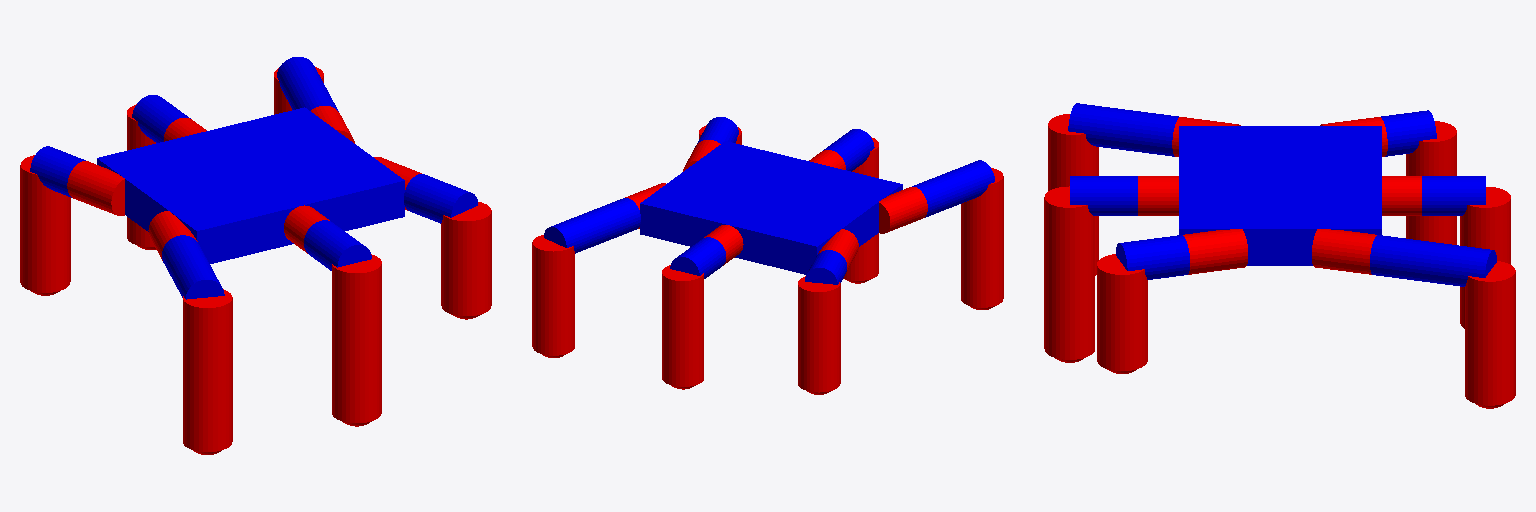
--- Render facts (derived) ---
3 views of the same robot in one strip: view 1: azimuth 30°, elevation 25°; view 2: azimuth 150°, elevation 25°; view 3: azimuth 270°, elevation 25° (orthographic).
Robot: pexod — 19 links, 18 joints (18 revolute); root link base_link; default pose: every joint at zero.
Visible links, largest first — view 1: base_link, leg_4_3, leg_5_3, leg_0_3, leg_3_3, leg_5_2, leg_3_2, leg_0_1, leg_4_2, leg_2_2, leg_0_2, leg_1_2 (+5 smaller); view 2: base_link, leg_5_3, leg_2_3, leg_1_3, leg_0_3, leg_2_2, leg_5_2, leg_5_1, leg_4_3, leg_1_2, leg_4_2, leg_0_2 (+3 smaller); view 3: base_link, leg_4_3, leg_2_3, leg_3_3, leg_2_2, leg_5_2, leg_0_3, leg_1_3, leg_5_3, leg_3_2, leg_4_2, leg_2_1 (+6 smaller).
Link boxes in pixels (left/top/right/bottom): base_link: left=97, top=107, right=404, bottom=263; leg_4_3: left=332, top=254, right=381, bottom=426; leg_5_3: left=183, top=289, right=232, bottom=454; leg_0_3: left=20, top=155, right=70, bottom=295; leg_3_3: left=441, top=202, right=491, bottom=319; leg_5_2: left=162, top=235, right=224, bottom=299; leg_3_2: left=404, top=174, right=477, bottom=223; leg_0_1: left=67, top=161, right=124, bottom=215; leg_4_2: left=304, top=220, right=371, bottom=270; leg_2_2: left=277, top=57, right=338, bottom=111; leg_0_2: left=30, top=146, right=85, bottom=197; leg_1_2: left=132, top=95, right=190, bottom=142; base_link: left=640, top=141, right=902, bottom=274; leg_5_3: left=961, top=168, right=1003, bottom=309; leg_2_3: left=532, top=235, right=574, bottom=357; leg_1_3: left=662, top=265, right=703, bottom=389; leg_0_3: left=798, top=276, right=840, bottom=394; leg_2_2: left=544, top=198, right=640, bottom=253; leg_5_2: left=912, top=160, right=994, bottom=217; leg_5_1: left=879, top=187, right=927, bottom=233; leg_4_3: left=843, top=137, right=878, bottom=283; leg_1_2: left=670, top=237, right=725, bottom=278; leg_4_2: left=823, top=129, right=874, bottom=171; leg_0_2: left=805, top=250, right=846, bottom=284; base_link: left=1179, top=126, right=1381, bottom=265; leg_4_3: left=1044, top=186, right=1094, bottom=362; leg_2_3: left=1465, top=261, right=1515, bottom=408; leg_3_3: left=1097, top=254, right=1147, bottom=373; leg_2_2: left=1370, top=235, right=1496, bottom=286; leg_5_2: left=1068, top=103, right=1178, bottom=156; leg_0_3: left=1406, top=121, right=1456, bottom=244; leg_1_3: left=1460, top=187, right=1510, bottom=328; leg_5_3: left=1048, top=114, right=1098, bottom=275; leg_3_2: left=1116, top=235, right=1189, bottom=279; leg_4_2: left=1070, top=176, right=1137, bottom=215; leg_2_1: left=1312, top=229, right=1376, bottom=274.
Size in the robot's own frame: 0.3921 by 0.4641 by 0.1978 metres.
Geometry: primitives only (box / cylinder / sphere), no mesh files.

URDF robot description (pexod):
<?xml version="1.0" ?>
<!-- =================================================================================== -->
<!-- |    This document was autogenerated by xacro from pexod.xacro                    | -->
<!-- |    EDITING THIS FILE BY HAND IS NOT RECOMMENDED                                 | -->
<!-- =================================================================================== -->
<robot name="pexod" xmlns:xacro="http://www.ros.org/wiki/xacro">
  <!-- <xacro:include filename="$(find pexod_description)/urdf/pexod_control.xacro" /> -->
  <!-- MATERIALS -->
  <material name="Blue">
    <color rgba="0 0 1 1"/>
  </material>
  <material name="Red">
    <color rgba="1 0 0 1"/>
  </material>
  <material name="Green">
    <color rgba="0 1 0 1"/>
  </material>
  <material name="Yellow">
    <color rgba="1 1 0 1"/>
  </material>
  <material name="LightGrey">
    <color rgba="0.6 0.6 0.6 1.0"/>
  </material>
  <!-- END OF MATERIALS -->
  <!-- XACRO MACROS FOR VISUALS AND COLLISIONS -->
  <!-- END OF XACRO MACROS -->
  <!-- TORSO -->
  <link name="base_link">
    <visual>
      <origin rpy="0 0 0" xyz="0 0 0"/>
      <geometry>
        <box size="0.24 0.2 0.04"/>
      </geometry>
      <material name="Blue"/>
    </visual>
    <collision>
      <origin rpy="0 0 0" xyz="0 0 0"/>
      <geometry>
        <box size="0.24 0.2 0.04"/>
      </geometry>
    </collision>
    <inertial>
      <!-- CENTER OF MASS -->
      <origin rpy="0 0 0" xyz="0 0 0"/>
      <mass value="1.031"/>
      <!-- box inertia: 1/12*m(y^2+z^2), ... -->
      <inertia ixx="0.00357413333333" ixy="0" ixz="0" iyy="0.00508626666667" iyz="0" izz="0.00838546666667"/>
    </inertial>
  </link>
  <!-- XACRO MACRO FOR LEGS LINKS/JOINTS -->
  <!-- END OF LEG LINKS/JOINTS -->
  <joint name="body_leg_2" type="revolute">
    <parent link="base_link"/>
    <child link="leg_2_1"/>
    <limit effort="30.0" lower="-1.57079632679" upper="1.57079632679" velocity="7.0"/>
    <origin rpy="0 0 -0.3" xyz="0.11 0.04 0"/>
    <!-- <xacro:if value="${index == 5 or index == 4 or index == 3}">
                <axis xyz="0 0 1"/>
            </xacro:if>
            <xacro:if value="${index == 2 or index == 1 or index == 0}"> -->
    <axis xyz="0 0 1"/>
    <!-- </xacro:if> -->
    <dynamics damping="0.0"/>
  </joint>
  <link name="leg_2_1">
    <visual>
      <origin rpy="1.57079632679 0 0" xyz="0.01 0.03 0"/>
      <geometry>
        <cylinder length="0.06" radius="0.02"/>
      </geometry>
      <material name="Red"/>
    </visual>
    <collision>
      <origin rpy="1.57079632679 0 0" xyz="0.01 0.03 0"/>
      <geometry>
        <box size="0.02 0.02 0.06"/>
      </geometry>
    </collision>
    <inertial>
      <!-- CENTER OF MASS -->
      <origin rpy="1.57079632679 0 0" xyz="0.01 0.03 0"/>
      <mass value="0.02"/>
      <!-- box inertia: 1/12*m(y^2+z^2), ... -->
      <inertia ixx="6.66666666667e-06" ixy="0" ixz="0" iyy="6.66666666667e-06" iyz="0" izz="1.33333333333e-06"/>
    </inertial>
  </link>
  <joint name="leg_2_1_2" type="revolute">
    <parent link="leg_2_1"/>
    <child link="leg_2_2"/>
    <limit effort="30.0" lower="-0.78539816339" upper="0.78539816339" velocity="7.0"/>
    <origin rpy="0 0 0" xyz="0 0.06 0"/>
    <axis xyz="1 0 0"/>
    <dynamics damping="0.0"/>
  </joint>
  <link name="leg_2_2">
    <visual>
      <origin rpy="1.57079632679 0 0" xyz="0.01 0.05937500697 0"/>
      <geometry>
        <cylinder length="0.11875001394" radius="0.02"/>
      </geometry>
      <material name="Blue"/>
    </visual>
    <collision>
      <origin rpy="1.57079632679 0 0" xyz="0.01 0.05937500697 0"/>
      <geometry>
        <box size="0.02 0.02 0.11875001394"/>
      </geometry>
    </collision>
    <inertial>
      <!-- CENTER OF MASS -->
      <origin rpy="1.57079632679 0 0" xyz="0.01 0.05937500697 0"/>
      <mass value="0.184"/>
      <!-- box inertia: 1/12*m(y^2+z^2), ... -->
      <inertia ixx="0.000222357342432" ixy="0" ixz="0" iyy="0.000222357342432" iyz="0" izz="1.22666666667e-05"/>
    </inertial>
  </link>
  <joint name="leg_2_2_3" type="revolute">
    <parent link="leg_2_2"/>
    <child link="leg_2_3"/>
    <limit effort="30.0" lower="-0.78539816339" upper="0.78539816339" velocity="7.0"/>
    <origin rpy="-1.57079632679 0 0" xyz="0 0.11875001394 0"/>
    <axis xyz="-1 0 0"/>
    <dynamics damping="0.0"/>
  </joint>
  <link name="leg_2_3">
    <visual>
      <origin rpy="1.57079632679 0 0" xyz="0.0125 0.0673767037585 0"/>
      <geometry>
        <cylinder length="0.134753407517" radius="0.025"/>
      </geometry>
      <material name="Red"/>
    </visual>
    <visual>
      <origin rpy="1.57079632679 0 0" xyz="0.0125 0.122253407517 0"/>
      <geometry>
        <sphere radius="0.025"/>
      </geometry>
      <material name="Red"/>
    </visual>
    <collision>
      <origin rpy="1.57079632679 0 0" xyz="0.0125 0.0673767037585 0"/>
      <geometry>
        <box size="0.025 0.025 0.134753407517"/>
      </geometry>
    </collision>
    <collision>
      <origin rpy="1.57079632679 0 0" xyz="0.0125 0.122253407517 0"/>
      <geometry>
        <sphere radius="0.025"/>
      </geometry>
      <material name="Red"/>
    </collision>
    <inertial>
      <!-- CENTER OF MASS -->
      <origin rpy="1.57079632679 0 0" xyz="0.0125 0.0673767037585 0"/>
      <mass value="0.04"/>
      <!-- box inertia: 1/12*m(y^2+z^2), ... -->
      <inertia ixx="6.26116027915e-05" ixy="0" ixz="0" iyy="6.26116027915e-05" iyz="0" izz="4.16666666667e-06"/>
    </inertial>
  </link>
  <joint name="body_leg_3" type="revolute">
    <parent link="base_link"/>
    <child link="leg_3_1"/>
    <limit effort="30.0" lower="-1.57079632679" upper="1.57079632679" velocity="7.0"/>
    <origin rpy="0 0 0.3" xyz="0.11 -0.04 0"/>
    <!-- <xacro:if value="${index == 5 or index == 4 or index == 3}">
                <axis xyz="0 0 1"/>
            </xacro:if>
            <xacro:if value="${index == 2 or index == 1 or index == 0}"> -->
    <axis xyz="0 0 1"/>
    <!-- </xacro:if> -->
    <dynamics damping="0.0"/>
  </joint>
  <link name="leg_3_1">
    <visual>
      <origin rpy="1.57079632679 0 0" xyz="0.01 -0.03 0"/>
      <geometry>
        <cylinder length="0.06" radius="0.02"/>
      </geometry>
      <material name="Red"/>
    </visual>
    <collision>
      <origin rpy="1.57079632679 0 0" xyz="0.01 -0.03 0"/>
      <geometry>
        <box size="0.02 0.02 0.06"/>
      </geometry>
    </collision>
    <inertial>
      <!-- CENTER OF MASS -->
      <origin rpy="1.57079632679 0 0" xyz="0.01 -0.03 0"/>
      <mass value="0.02"/>
      <!-- box inertia: 1/12*m(y^2+z^2), ... -->
      <inertia ixx="6.66666666667e-06" ixy="0" ixz="0" iyy="6.66666666667e-06" iyz="0" izz="1.33333333333e-06"/>
    </inertial>
  </link>
  <joint name="leg_3_1_2" type="revolute">
    <parent link="leg_3_1"/>
    <child link="leg_3_2"/>
    <limit effort="30.0" lower="-0.78539816339" upper="0.78539816339" velocity="7.0"/>
    <origin rpy="0 0 0" xyz="0 -0.06 0"/>
    <axis xyz="-1 0 0"/>
    <dynamics damping="0.0"/>
  </joint>
  <link name="leg_3_2">
    <visual>
      <origin rpy="1.57079632679 0 0" xyz="0.01 -0.0323142915042 0"/>
      <geometry>
        <cylinder length="0.0646285830084" radius="0.02"/>
      </geometry>
      <material name="Blue"/>
    </visual>
    <collision>
      <origin rpy="1.57079632679 0 0" xyz="0.01 -0.0323142915042 0"/>
      <geometry>
        <box size="0.02 0.02 0.0646285830084"/>
      </geometry>
    </collision>
    <inertial>
      <!-- CENTER OF MASS -->
      <origin rpy="1.57079632679 0 0" xyz="0.01 -0.0323142915042 0"/>
      <mass value="0.184"/>
      <!-- box inertia: 1/12*m(y^2+z^2), ... -->
      <inertia ixx="7.0178424039e-05" ixy="0" ixz="0" iyy="7.0178424039e-05" iyz="0" izz="1.22666666667e-05"/>
    </inertial>
  </link>
  <joint name="leg_3_2_3" type="revolute">
    <parent link="leg_3_2"/>
    <child link="leg_3_3"/>
    <limit effort="30.0" lower="-0.78539816339" upper="0.78539816339" velocity="7.0"/>
    <origin rpy="1.57079632679 0 0" xyz="0 -0.0646285830084 0"/>
    <axis xyz="1 0 0"/>
    <dynamics damping="0.0"/>
  </joint>
  <link name="leg_3_3">
    <visual>
      <origin rpy="1.57079632679 0 0" xyz="0.0125 -0.052367744141 0"/>
      <geometry>
        <cylinder length="0.104735488282" radius="0.025"/>
      </geometry>
      <material name="Red"/>
    </visual>
    <visual>
      <origin rpy="1.57079632679 0 0" xyz="0.0125 -0.092235488282 0"/>
      <geometry>
        <sphere radius="0.025"/>
      </geometry>
      <material name="Red"/>
    </visual>
    <collision>
      <origin rpy="1.57079632679 0 0" xyz="0.0125 -0.052367744141 0"/>
      <geometry>
        <box size="0.025 0.025 0.104735488282"/>
      </geometry>
    </collision>
    <collision>
      <origin rpy="1.57079632679 0 0" xyz="0.0125 -0.092235488282 0"/>
      <geometry>
        <sphere radius="0.025"/>
      </geometry>
      <material name="Red"/>
    </collision>
    <inertial>
      <!-- CENTER OF MASS -->
      <origin rpy="1.57079632679 0 0" xyz="0.0125 -0.052367744141 0"/>
      <mass value="0.04"/>
      <!-- box inertia: 1/12*m(y^2+z^2), ... -->
      <inertia ixx="3.86484083522e-05" ixy="0" ixz="0" iyy="3.86484083522e-05" iyz="0" izz="4.16666666667e-06"/>
    </inertial>
  </link>
  <joint name="body_leg_0" type="revolute">
    <parent link="base_link"/>
    <child link="leg_0_1"/>
    <limit effort="30.0" lower="-1.57079632679" upper="1.57079632679" velocity="7.0"/>
    <origin rpy="0 0 0.3" xyz="-0.13 0.04 0"/>
    <!-- <xacro:if value="${index == 5 or index == 4 or index == 3}">
                <axis xyz="0 0 1"/>
            </xacro:if>
            <xacro:if value="${index == 2 or index == 1 or index == 0}"> -->
    <axis xyz="0 0 1"/>
    <!-- </xacro:if> -->
    <dynamics damping="0.0"/>
  </joint>
  <link name="leg_0_1">
    <visual>
      <origin rpy="1.57079632679 0 0" xyz="0.01 0.03 0"/>
      <geometry>
        <cylinder length="0.06" radius="0.02"/>
      </geometry>
      <material name="Red"/>
    </visual>
    <collision>
      <origin rpy="1.57079632679 0 0" xyz="0.01 0.03 0"/>
      <geometry>
        <box size="0.02 0.02 0.06"/>
      </geometry>
    </collision>
    <inertial>
      <!-- CENTER OF MASS -->
      <origin rpy="1.57079632679 0 0" xyz="0.01 0.03 0"/>
      <mass value="0.02"/>
      <!-- box inertia: 1/12*m(y^2+z^2), ... -->
      <inertia ixx="6.66666666667e-06" ixy="0" ixz="0" iyy="6.66666666667e-06" iyz="0" izz="1.33333333333e-06"/>
    </inertial>
  </link>
  <joint name="leg_0_1_2" type="revolute">
    <parent link="leg_0_1"/>
    <child link="leg_0_2"/>
    <limit effort="30.0" lower="-0.78539816339" upper="0.78539816339" velocity="7.0"/>
    <origin rpy="0 0 0" xyz="0 0.06 0"/>
    <axis xyz="1 0 0"/>
    <dynamics damping="0.0"/>
  </joint>
  <link name="leg_0_2">
    <visual>
      <origin rpy="1.57079632679 0 0" xyz="0.01 0.0252210495324 0"/>
      <geometry>
        <cylinder length="0.0504420990649" radius="0.02"/>
      </geometry>
      <material name="Blue"/>
    </visual>
    <collision>
      <origin rpy="1.57079632679 0 0" xyz="0.01 0.0252210495324 0"/>
      <geometry>
        <box size="0.02 0.02 0.0504420990649"/>
      </geometry>
    </collision>
    <inertial>
      <!-- CENTER OF MASS -->
      <origin rpy="1.57079632679 0 0" xyz="0.01 0.0252210495324 0"/>
      <mass value="0.184"/>
      <!-- box inertia: 1/12*m(y^2+z^2), ... -->
      <inertia ixx="4.51475488238e-05" ixy="0" ixz="0" iyy="4.51475488238e-05" iyz="0" izz="1.22666666667e-05"/>
    </inertial>
  </link>
  <joint name="leg_0_2_3" type="revolute">
    <parent link="leg_0_2"/>
    <child link="leg_0_3"/>
    <limit effort="30.0" lower="-0.78539816339" upper="0.78539816339" velocity="7.0"/>
    <origin rpy="-1.57079632679 0 0" xyz="0 0.0504420990649 0"/>
    <axis xyz="-1 0 0"/>
    <dynamics damping="0.0"/>
  </joint>
  <link name="leg_0_3">
    <visual>
      <origin rpy="1.57079632679 0 0" xyz="0.0125 0.064848863057 0"/>
      <geometry>
        <cylinder length="0.129697726114" radius="0.025"/>
      </geometry>
      <material name="Red"/>
    </visual>
    <visual>
      <origin rpy="1.57079632679 0 0" xyz="0.0125 0.117197726114 0"/>
      <geometry>
        <sphere radius="0.025"/>
      </geometry>
      <material name="Red"/>
    </visual>
    <collision>
      <origin rpy="1.57079632679 0 0" xyz="0.0125 0.064848863057 0"/>
      <geometry>
        <box size="0.025 0.025 0.129697726114"/>
      </geometry>
    </collision>
    <collision>
      <origin rpy="1.57079632679 0 0" xyz="0.0125 0.117197726114 0"/>
      <geometry>
        <sphere radius="0.025"/>
      </geometry>
      <material name="Red"/>
    </collision>
    <inertial>
      <!-- CENTER OF MASS -->
      <origin rpy="1.57079632679 0 0" xyz="0.0125 0.064848863057 0"/>
      <mass value="0.04"/>
      <!-- box inertia: 1/12*m(y^2+z^2), ... -->
      <inertia ixx="5.81550005305e-05" ixy="0" ixz="0" iyy="5.81550005305e-05" iyz="0" izz="4.16666666667e-06"/>
    </inertial>
  </link>
  <joint name="body_leg_5" type="revolute">
    <parent link="base_link"/>
    <child link="leg_5_1"/>
    <limit effort="30.0" lower="-1.57079632679" upper="1.57079632679" velocity="7.0"/>
    <origin rpy="0 0 -0.3" xyz="-0.13 -0.04 0"/>
    <!-- <xacro:if value="${index == 5 or index == 4 or index == 3}">
                <axis xyz="0 0 1"/>
            </xacro:if>
            <xacro:if value="${index == 2 or index == 1 or index == 0}"> -->
    <axis xyz="0 0 1"/>
    <!-- </xacro:if> -->
    <dynamics damping="0.0"/>
  </joint>
  <link name="leg_5_1">
    <visual>
      <origin rpy="1.57079632679 0 0" xyz="0.01 -0.03 0"/>
      <geometry>
        <cylinder length="0.06" radius="0.02"/>
      </geometry>
      <material name="Red"/>
    </visual>
    <collision>
      <origin rpy="1.57079632679 0 0" xyz="0.01 -0.03 0"/>
      <geometry>
        <box size="0.02 0.02 0.06"/>
      </geometry>
    </collision>
    <inertial>
      <!-- CENTER OF MASS -->
      <origin rpy="1.57079632679 0 0" xyz="0.01 -0.03 0"/>
      <mass value="0.02"/>
      <!-- box inertia: 1/12*m(y^2+z^2), ... -->
      <inertia ixx="6.66666666667e-06" ixy="0" ixz="0" iyy="6.66666666667e-06" iyz="0" izz="1.33333333333e-06"/>
    </inertial>
  </link>
  <joint name="leg_5_1_2" type="revolute">
    <parent link="leg_5_1"/>
    <child link="leg_5_2"/>
    <limit effort="30.0" lower="-0.78539816339" upper="0.78539816339" velocity="7.0"/>
    <origin rpy="0 0 0" xyz="0 -0.06 0"/>
    <axis xyz="-1 0 0"/>
    <dynamics damping="0.0"/>
  </joint>
  <link name="leg_5_2">
    <visual>
      <origin rpy="1.57079632679 0 0" xyz="0.01 -0.0536541151765 0"/>
      <geometry>
        <cylinder length="0.107308230353" radius="0.02"/>
      </geometry>
      <material name="Blue"/>
    </visual>
    <collision>
      <origin rpy="1.57079632679 0 0" xyz="0.01 -0.0536541151765 0"/>
      <geometry>
        <box size="0.02 0.02 0.107308230353"/>
      </geometry>
    </collision>
    <inertial>
      <!-- CENTER OF MASS -->
      <origin rpy="1.57079632679 0 0" xyz="0.01 -0.0536541151765 0"/>
      <mass value="0.184"/>
      <!-- box inertia: 1/12*m(y^2+z^2), ... -->
      <inertia ixx="0.000182697529956" ixy="0" ixz="0" iyy="0.000182697529956" iyz="0" izz="1.22666666667e-05"/>
    </inertial>
  </link>
  <joint name="leg_5_2_3" type="revolute">
    <parent link="leg_5_2"/>
    <child link="leg_5_3"/>
    <limit effort="30.0" lower="-0.78539816339" upper="0.78539816339" velocity="7.0"/>
    <origin rpy="1.57079632679 0 0" xyz="0 -0.107308230353 0"/>
    <axis xyz="1 0 0"/>
    <dynamics damping="0.0"/>
  </joint>
  <link name="leg_5_3">
    <visual>
      <origin rpy="1.57079632679 0 0" xyz="0.0125 -0.079412905233 0"/>
      <geometry>
        <cylinder length="0.158825810466" radius="0.025"/>
      </geometry>
      <material name="Red"/>
    </visual>
    <visual>
      <origin rpy="1.57079632679 0 0" xyz="0.0125 -0.146325810466 0"/>
      <geometry>
        <sphere radius="0.025"/>
      </geometry>
      <material name="Red"/>
    </visual>
    <collision>
      <origin rpy="1.57079632679 0 0" xyz="0.0125 -0.079412905233 0"/>
      <geometry>
        <box size="0.025 0.025 0.158825810466"/>
      </geometry>
    </collision>
    <collision>
      <origin rpy="1.57079632679 0 0" xyz="0.0125 -0.146325810466 0"/>
      <geometry>
        <sphere radius="0.025"/>
      </geometry>
      <material name="Red"/>
    </collision>
    <inertial>
      <!-- CENTER OF MASS -->
      <origin rpy="1.57079632679 0 0" xyz="0.0125 -0.079412905233 0"/>
      <mass value="0.04"/>
      <!-- box inertia: 1/12*m(y^2+z^2), ... -->
      <inertia ixx="8.61687935673e-05" ixy="0" ixz="0" iyy="8.61687935673e-05" iyz="0" izz="4.16666666667e-06"/>
    </inertial>
  </link>
  <joint name="body_leg_1" type="revolute">
    <parent link="base_link"/>
    <child link="leg_1_1"/>
    <limit effort="30.0" lower="-1.57079632679" upper="1.57079632679" velocity="7.0"/>
    <origin rpy="0 0 0" xyz="-0.01 0.08 0"/>
    <!-- <xacro:if value="${index == 5 or index == 4 or index == 3}">
                <axis xyz="0 0 1"/>
            </xacro:if>
            <xacro:if value="${index == 2 or index == 1 or index == 0}"> -->
    <axis xyz="0 0 1"/>
    <!-- </xacro:if> -->
    <dynamics damping="0.0"/>
  </joint>
  <link name="leg_1_1">
    <visual>
      <origin rpy="1.57079632679 0 0" xyz="0.01 0.03 0"/>
      <geometry>
        <cylinder length="0.06" radius="0.02"/>
      </geometry>
      <material name="Red"/>
    </visual>
    <collision>
      <origin rpy="1.57079632679 0 0" xyz="0.01 0.03 0"/>
      <geometry>
        <box size="0.02 0.02 0.06"/>
      </geometry>
    </collision>
    <inertial>
      <!-- CENTER OF MASS -->
      <origin rpy="1.57079632679 0 0" xyz="0.01 0.03 0"/>
      <mass value="0.02"/>
      <!-- box inertia: 1/12*m(y^2+z^2), ... -->
      <inertia ixx="6.66666666667e-06" ixy="0" ixz="0" iyy="6.66666666667e-06" iyz="0" izz="1.33333333333e-06"/>
    </inertial>
  </link>
  <joint name="leg_1_1_2" type="revolute">
    <parent link="leg_1_1"/>
    <child link="leg_1_2"/>
    <limit effort="30.0" lower="-0.78539816339" upper="0.78539816339" velocity="7.0"/>
    <origin rpy="0 0 0" xyz="0 0.06 0"/>
    <axis xyz="1 0 0"/>
    <dynamics damping="0.0"/>
  </joint>
  <link name="leg_1_2">
    <visual>
      <origin rpy="1.57079632679 0 0" xyz="0.01 0.0312149343314 0"/>
      <geometry>
        <cylinder length="0.0624298686628" radius="0.02"/>
      </geometry>
      <material name="Blue"/>
    </visual>
    <collision>
      <origin rpy="1.57079632679 0 0" xyz="0.01 0.0312149343314 0"/>
      <geometry>
        <box size="0.02 0.02 0.0624298686628"/>
      </geometry>
    </collision>
    <inertial>
      <!-- CENTER OF MASS -->
      <origin rpy="1.57079632679 0 0" xyz="0.01 0.0312149343314 0"/>
      <mass value="0.184"/>
      <!-- box inertia: 1/12*m(y^2+z^2), ... -->
      <inertia ixx="6.58948236859e-05" ixy="0" ixz="0" iyy="6.58948236859e-05" iyz="0" izz="1.22666666667e-05"/>
    </inertial>
  </link>
  <joint name="leg_1_2_3" type="revolute">
    <parent link="leg_1_2"/>
    <child link="leg_1_3"/>
    <limit effort="30.0" lower="-0.78539816339" upper="0.78539816339" velocity="7.0"/>
    <origin rpy="-1.57079632679 0 0" xyz="0 0.0624298686628 0"/>
    <axis xyz="-1 0 0"/>
    <dynamics damping="0.0"/>
  </joint>
  <link name="leg_1_3">
    <visual>
      <origin rpy="1.57079632679 0 0" xyz="0.0125 0.0683480643355 0"/>
      <geometry>
        <cylinder length="0.136696128671" radius="0.025"/>
      </geometry>
      <material name="Red"/>
    </visual>
    <visual>
      <origin rpy="1.57079632679 0 0" xyz="0.0125 0.124196128671 0"/>
      <geometry>
        <sphere radius="0.025"/>
      </geometry>
      <material name="Red"/>
    </visual>
    <collision>
      <origin rpy="1.57079632679 0 0" xyz="0.0125 0.0683480643355 0"/>
      <geometry>
        <box size="0.025 0.025 0.136696128671"/>
      </geometry>
    </collision>
    <collision>
      <origin rpy="1.57079632679 0 0" xyz="0.0125 0.124196128671 0"/>
      <geometry>
        <sphere radius="0.025"/>
      </geometry>
      <material name="Red"/>
    </collision>
    <inertial>
      <!-- CENTER OF MASS -->
      <origin rpy="1.57079632679 0 0" xyz="0.0125 0.0683480643355 0"/>
      <mass value="0.04"/>
      <!-- box inertia: 1/12*m(y^2+z^2), ... -->
      <inertia ixx="6.43694386455e-05" ixy="0" ixz="0" iyy="6.43694386455e-05" iyz="0" izz="4.16666666667e-06"/>
    </inertial>
  </link>
  <joint name="body_leg_4" type="revolute">
    <parent link="base_link"/>
    <child link="leg_4_1"/>
    <limit effort="30.0" lower="-1.57079632679" upper="1.57079632679" velocity="7.0"/>
    <origin rpy="0 0 0" xyz="-0.01 -0.08 0"/>
    <!-- <xacro:if value="${index == 5 or index == 4 or index == 3}">
                <axis xyz="0 0 1"/>
            </xacro:if>
            <xacro:if value="${index == 2 or index == 1 or index == 0}"> -->
    <axis xyz="0 0 1"/>
    <!-- </xacro:if> -->
    <dynamics damping="0.0"/>
  </joint>
  <link name="leg_4_1">
    <visual>
      <origin rpy="1.57079632679 0 0" xyz="0.01 -0.03 0"/>
      <geometry>
        <cylinder length="0.06" radius="0.02"/>
      </geometry>
      <material name="Red"/>
    </visual>
    <collision>
      <origin rpy="1.57079632679 0 0" xyz="0.01 -0.03 0"/>
      <geometry>
        <box size="0.02 0.02 0.06"/>
      </geometry>
    </collision>
    <inertial>
      <!-- CENTER OF MASS -->
      <origin rpy="1.57079632679 0 0" xyz="0.01 -0.03 0"/>
      <mass value="0.02"/>
      <!-- box inertia: 1/12*m(y^2+z^2), ... -->
      <inertia ixx="6.66666666667e-06" ixy="0" ixz="0" iyy="6.66666666667e-06" iyz="0" izz="1.33333333333e-06"/>
    </inertial>
  </link>
  <joint name="leg_4_1_2" type="revolute">
    <parent link="leg_4_1"/>
    <child link="leg_4_2"/>
    <limit effort="30.0" lower="-0.78539816339" upper="0.78539816339" velocity="7.0"/>
    <origin rpy="0 0 0" xyz="0 -0.06 0"/>
    <axis xyz="-1 0 0"/>
    <dynamics damping="0.0"/>
  </joint>
  <link name="leg_4_2">
    <visual>
      <origin rpy="1.57079632679 0 0" xyz="0.01 -0.0335524527718 0"/>
      <geometry>
        <cylinder length="0.0671049055436" radius="0.02"/>
      </geometry>
      <material name="Blue"/>
    </visual>
    <collision>
      <origin rpy="1.57079632679 0 0" xyz="0.01 -0.0335524527718 0"/>
      <geometry>
        <box size="0.02 0.02 0.0671049055436"/>
      </geometry>
    </collision>
    <inertial>
      <!-- CENTER OF MASS -->
      <origin rpy="1.57079632679 0 0" xyz="0.01 -0.0335524527718 0"/>
      <mass value="0.184"/>
      <!-- box inertia: 1/12*m(y^2+z^2), ... -->
      <inertia ixx="7.51803813362e-05" ixy="0" ixz="0" iyy="7.51803813362e-05" iyz="0" izz="1.22666666667e-05"/>
    </inertial>
  </link>
  <joint name="leg_4_2_3" type="revolute">
    <parent link="leg_4_2"/>
    <child link="leg_4_3"/>
    <limit effort="30.0" lower="-0.78539816339" upper="0.78539816339" velocity="7.0"/>
    <origin rpy="1.57079632679 0 0" xyz="0 -0.0671049055436 0"/>
    <axis xyz="1 0 0"/>
    <dynamics damping="0.0"/>
  </joint>
  <link name="leg_4_3">
    <visual>
      <origin rpy="1.57079632679 0 0" xyz="0.0125 -0.0826582954715 0"/>
      <geometry>
        <cylinder length="0.165316590943" radius="0.025"/>
      </geometry>
      <material name="Red"/>
    </visual>
    <visual>
      <origin rpy="1.57079632679 0 0" xyz="0.0125 -0.152816590943 0"/>
      <geometry>
        <sphere radius="0.025"/>
      </geometry>
      <material name="Red"/>
    </visual>
    <collision>
      <origin rpy="1.57079632679 0 0" xyz="0.0125 -0.0826582954715 0"/>
      <geometry>
        <box size="0.025 0.025 0.165316590943"/>
      </geometry>
    </collision>
    <collision>
      <origin rpy="1.57079632679 0 0" xyz="0.0125 -0.152816590943 0"/>
      <geometry>
        <sphere radius="0.025"/>
      </geometry>
      <material name="Red"/>
    </collision>
    <inertial>
      <!-- CENTER OF MASS -->
      <origin rpy="1.57079632679 0 0" xyz="0.0125 -0.0826582954715 0"/>
      <mass value="0.04"/>
      <!-- box inertia: 1/12*m(y^2+z^2), ... -->
      <inertia ixx="9.31819174701e-05" ixy="0" ixz="0" iyy="9.31819174701e-05" iyz="0" izz="4.16666666667e-06"/>
    </inertial>
  </link>
  <!-- END OF LEG LINKS/JOINTS -->
</robot>
